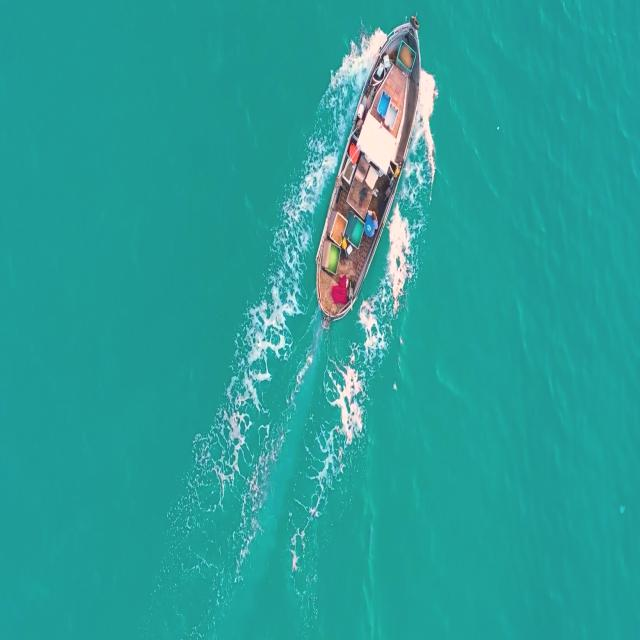ship: (314, 12, 426, 328)
